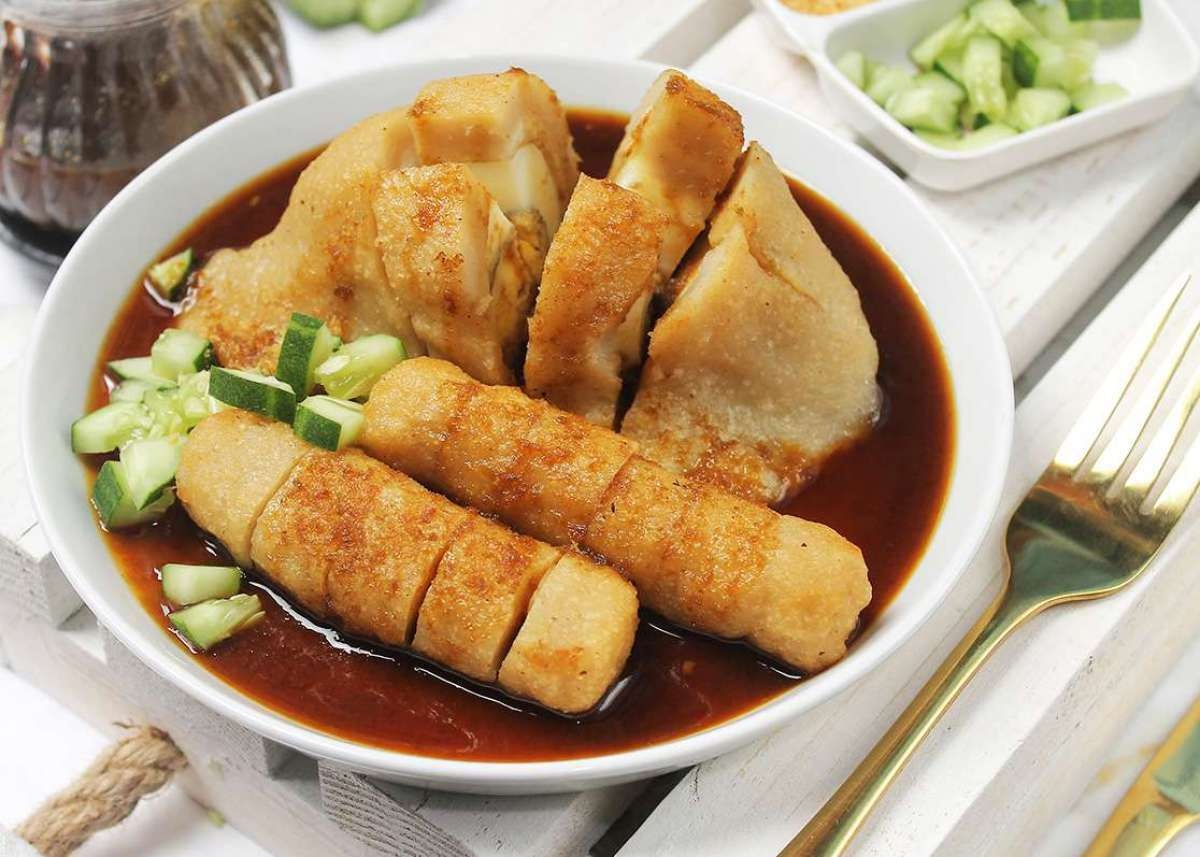pempek: (79, 74, 1037, 762)
